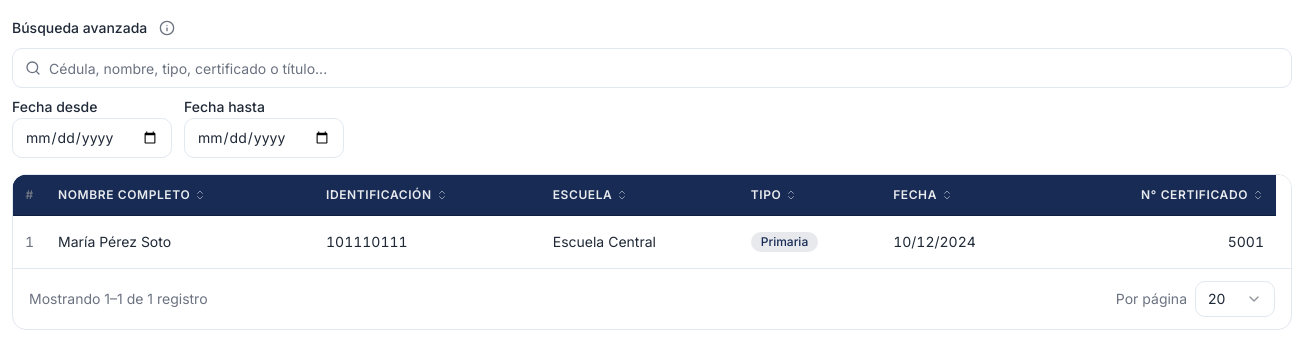
Test case: Consultar — búsqueda › expone un solo campo con ayuda y fechas visibles
The image size is (1304, 347).
Expected: the button named "Busca a la vez en cédula" is shown, [151,12,183,44]
Expected: the date field labelled "Fecha desde" is shown, [12,118,172,158]
Type "mar" into the field labelled "Búsqueda avanzada" at point(652, 68), box [13,49,1291,87]
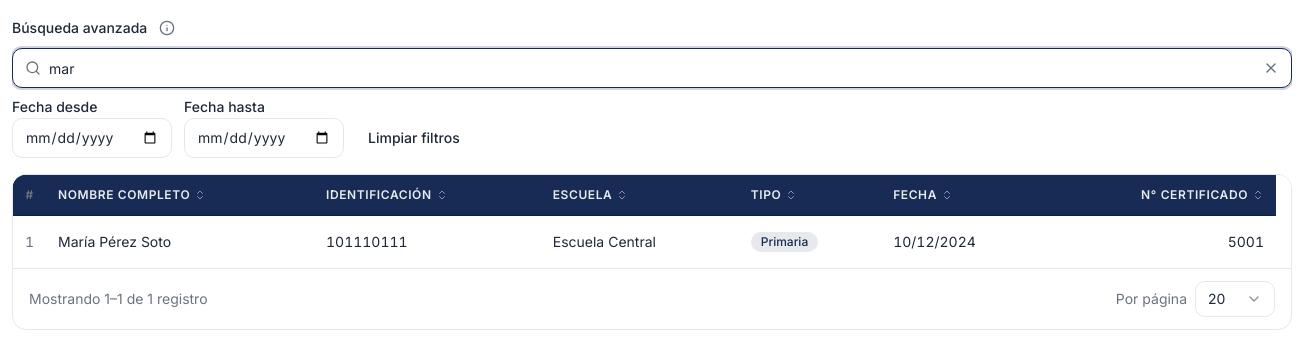
Click the button named "Limpiar búsqueda" at point(1271, 68), box [1255,52,1287,84]
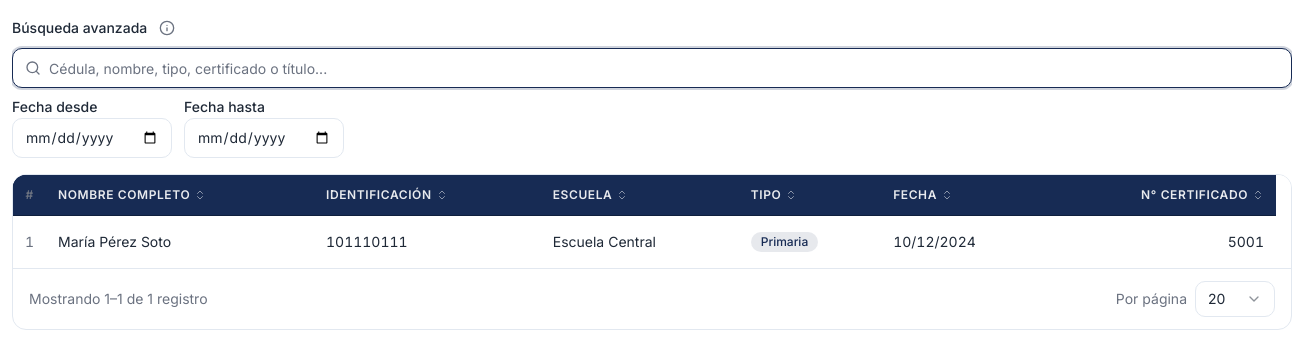
Expected: the field labelled "Búsqueda avanzada" is empty, [13,49,1291,87]
